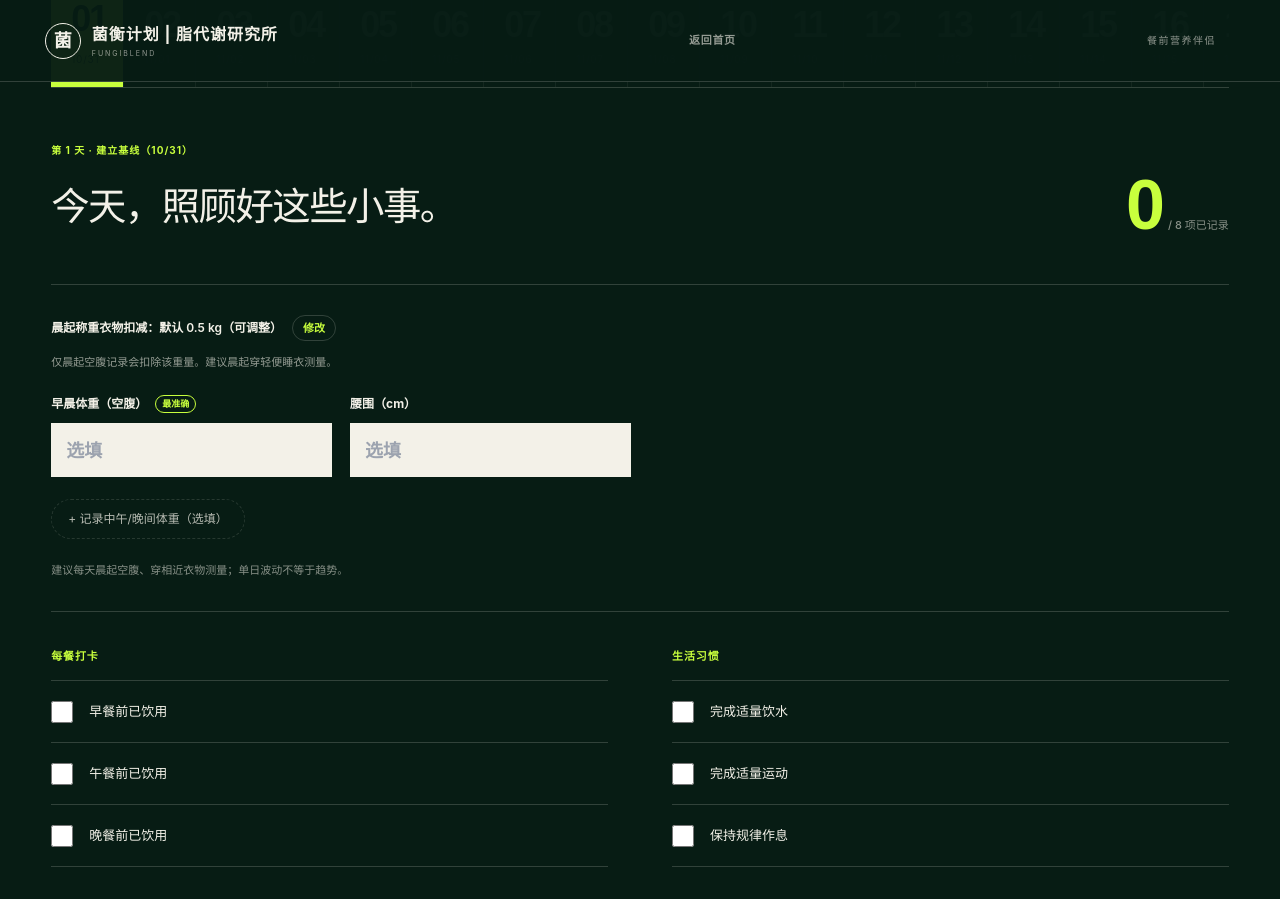
Test: 极简体重记录与衣物扣减 › 展开中晚后仅早晨扣衣物，并用人话展示参考体重
(page scrolled)
Type "68" into the number field labelled "早晨体重（空腹）" at (192, 450), box [51,423,332,477]
(page scrolled)
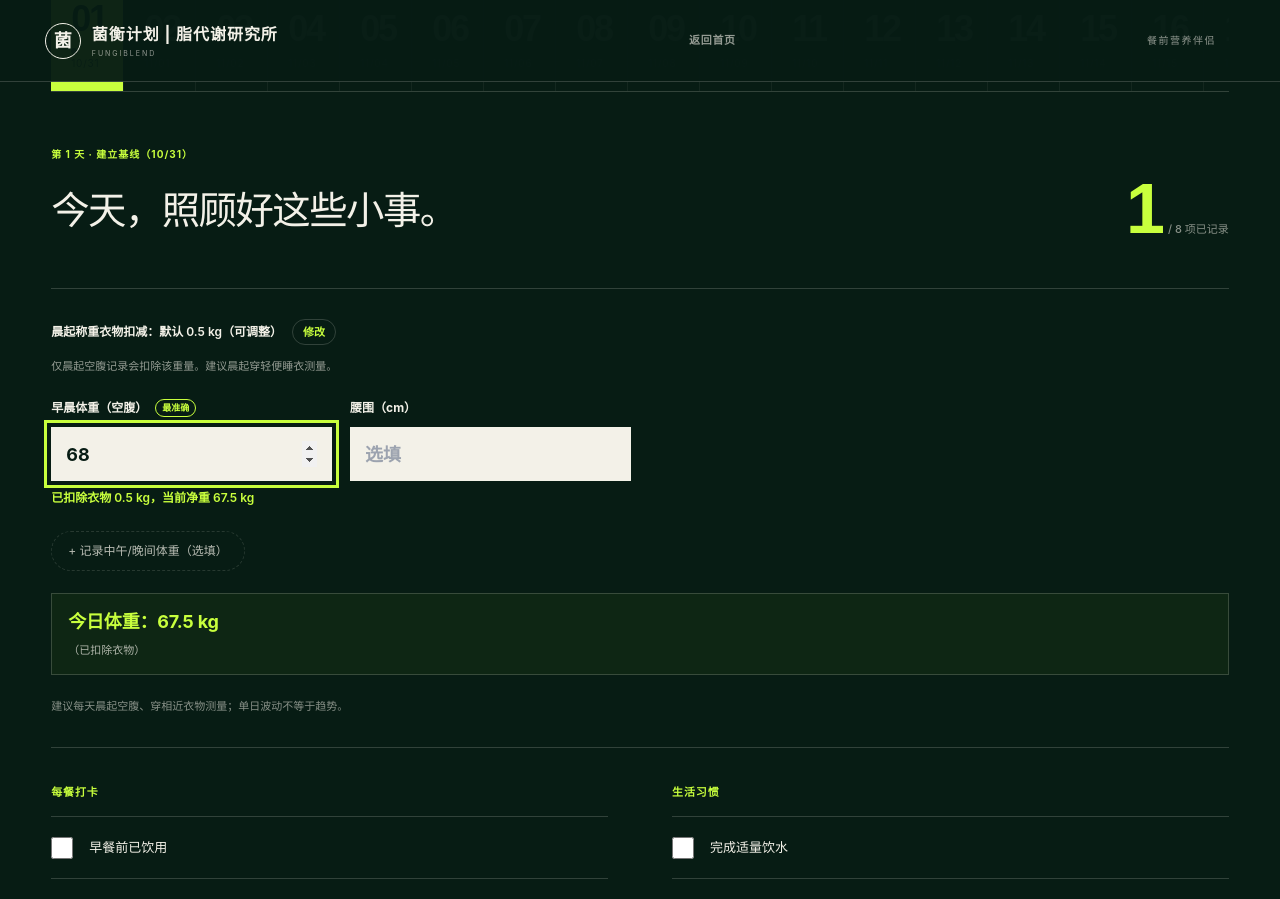
Click the button "+ 记录中午/晚间体重（选填）" at (148, 551), box [51,531,245,571]
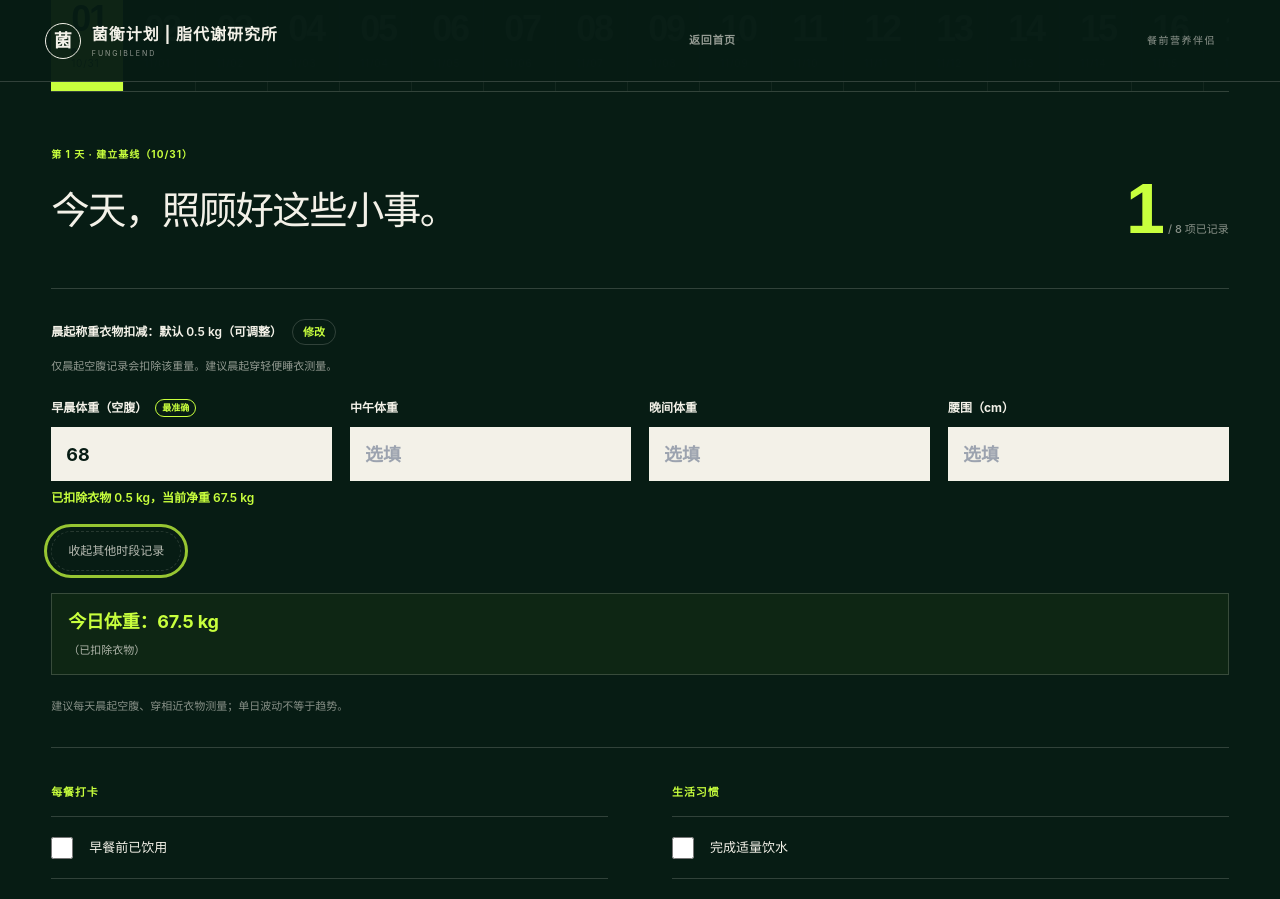
Type "69" into the number field labelled "晚间体重" at (789, 454), box [649,427,930,481]
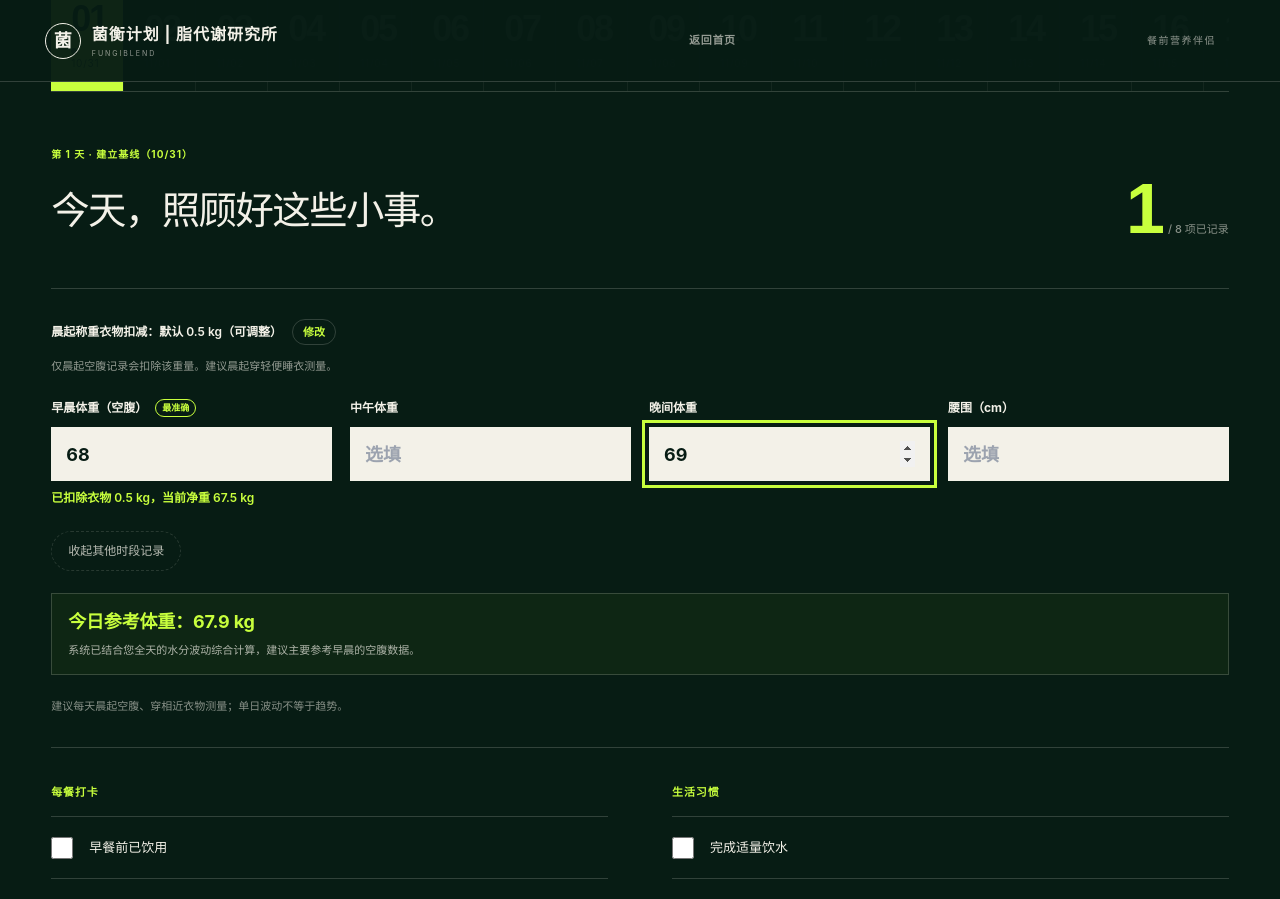
Expected: the text "今日参考体重：67.9 kg" is shown, [68,611,255,632]
Expected: the text "系统已结合您全天的水分波动综合计算，建议主要参考早晨的空腹数据。" is shown, [68,643,420,657]
